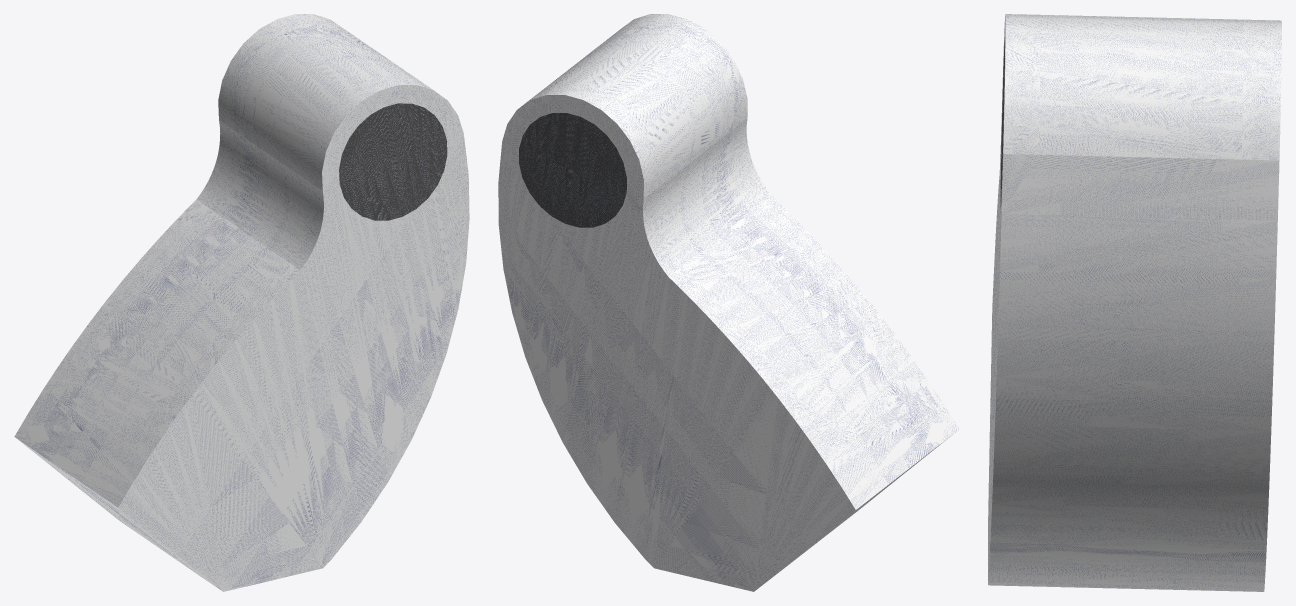
Rendered from LF-down-leg-aibo-ers7.dae.
3 views of the same model, side by side, from view 1: azimuth 30°, elevation 25°; view 2: azimuth 150°, elevation 25°; view 3: azimuth 270°, elevation 25° (orthographic). The views are drawn at different scales.
Parts seen in each view (by area): view 1: Component_4 (×2); view 2: Component_4 (×2); view 3: Component_4.
Part boxes in pixels (box(x1,y1,x2,y2)): Component_4 (×2): box(14, 14, 469, 591); Component_4 (×2): box(498, 14, 959, 591); Component_4: box(988, 14, 1281, 591).
Size of the model in its own units: 20.56 by 11.09 by 25.67.
